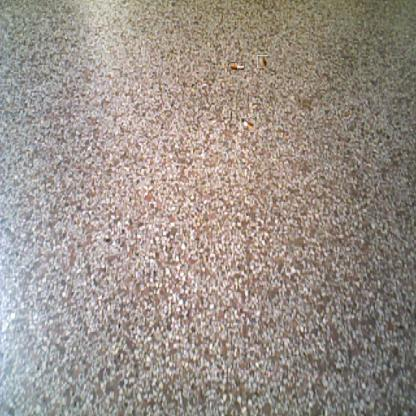dirty: (240, 118, 255, 132), (256, 56, 269, 67), (228, 62, 244, 70)
